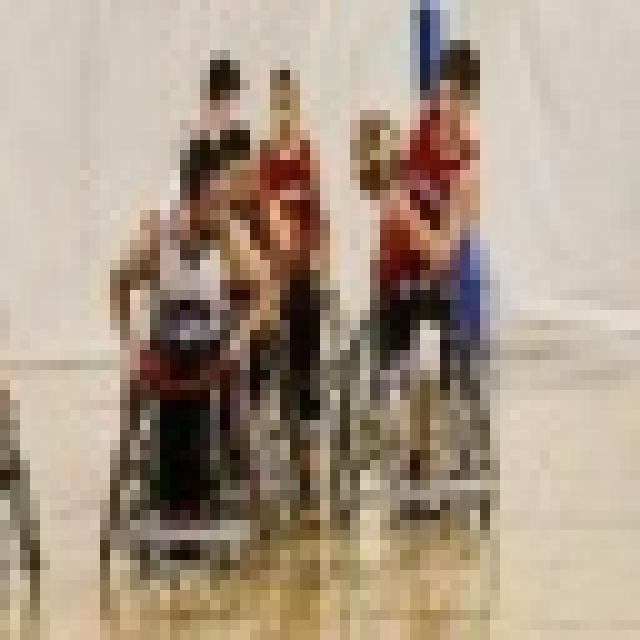wheelchairs: (102, 354, 319, 578), (316, 287, 509, 533)
